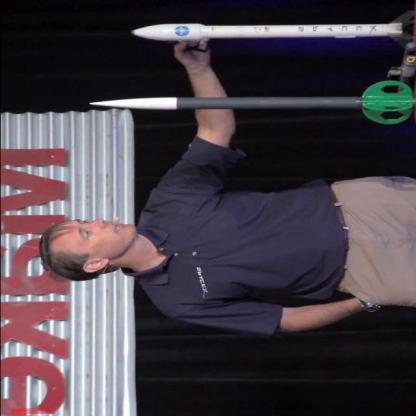MIL_TBM: (88, 83, 416, 122), (132, 23, 404, 42)
